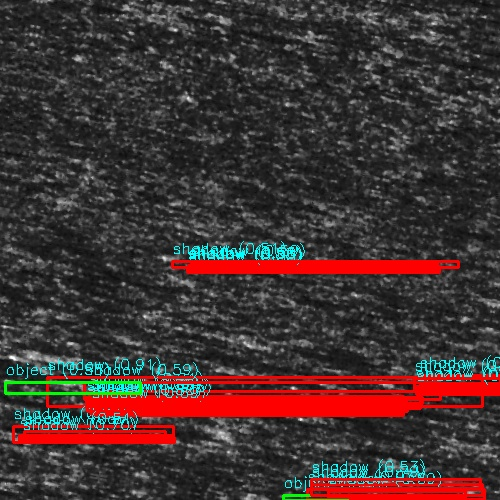rock: (27, 376, 152, 403), (32, 400, 157, 417), (291, 486, 344, 497), (383, 374, 446, 381), (0, 436, 51, 441)
shadow: (90, 376, 480, 403), (95, 400, 406, 417), (0, 401, 389, 410), (318, 486, 479, 497), (20, 436, 172, 441), (188, 267, 433, 270), (415, 374, 498, 381)
